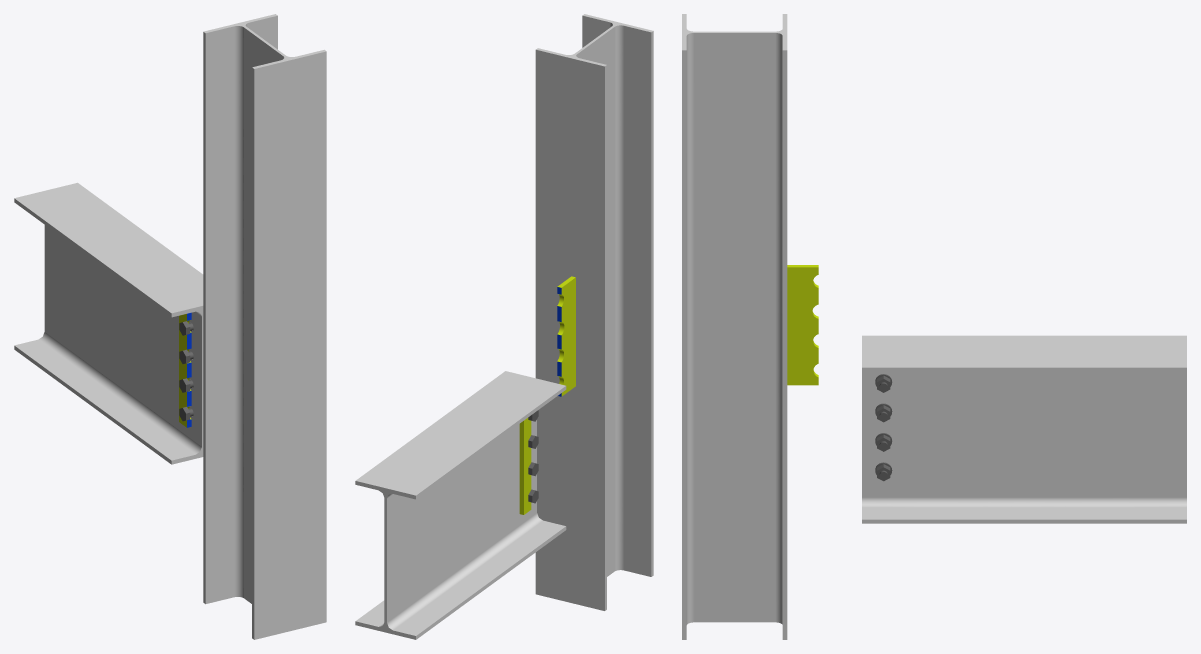
Rendered from 02b-Shear Rupture (plate).glb.
3 renders of one model, left to right at view 1: azimuth 30°, elevation 25°; view 2: azimuth 150°, elevation 25°; view 3: azimuth 270°, elevation 25°, orthographic. The views are drawn at different scales.
Visible parts, largest first — view 1: W-Wide Flange-Column W10X33 (1) [1245414], W-Wide Flange W16X36 (1) [1518880], [1715587], [1715589]; view 2: W-Wide Flange-Column W10X33 (1) [1245414], W-Wide Flange W16X36 (1) [1518880], [1717144], [1715587], [1715589]; view 3: W-Wide Flange-Column W10X33 (1) [1245414], W-Wide Flange W16X36 (1) [1518880], [1717144], [1715589].
Boxes of the visible parts, x1,y1,x2,y2 form: W-Wide Flange-Column W10X33 (1) [1245414]: [203, 14, 326, 639]; W-Wide Flange W16X36 (1) [1518880]: [14, 182, 203, 464]; [1715587]: [179, 312, 191, 427]; [1715589]: [179, 321, 193, 421]; W-Wide Flange-Column W10X33 (1) [1245414]: [535, 14, 653, 610]; W-Wide Flange W16X36 (1) [1518880]: [355, 371, 566, 639]; [1717144]: [557, 276, 575, 396]; [1715587]: [519, 417, 531, 514]; [1715589]: [528, 410, 538, 503]; W-Wide Flange-Column W10X33 (1) [1245414]: [682, 14, 787, 639]; W-Wide Flange W16X36 (1) [1518880]: [862, 335, 1186, 523]; [1717144]: [787, 265, 818, 385]; [1715589]: [875, 374, 892, 481].
Size of the model in its own units: 0.2022 by 1.52 by 1.18.
